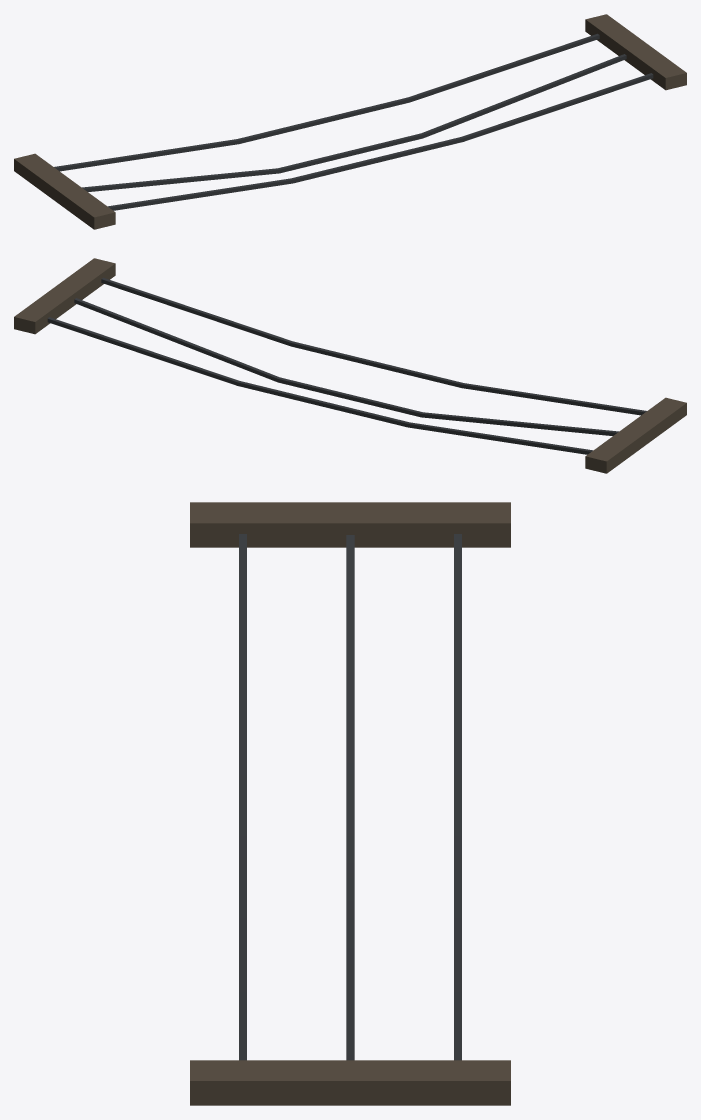
File: SM_Prop_Power_Cables_02.fbx
3 views of the same model, one above another, from view 1: azimuth 30°, elevation 25°; view 2: azimuth 150°, elevation 25°; view 3: azimuth 270°, elevation 25° (orthographic). The views are drawn at different scales.
Parts seen in each view (by area): view 1: SM_Prop_Power_Cables_02; view 2: SM_Prop_Power_Cables_02; view 3: SM_Prop_Power_Cables_02.
Part boxes in pixels (left/top/right/bottom): SM_Prop_Power_Cables_02: left=14, top=14, right=686, bottom=229; SM_Prop_Power_Cables_02: left=14, top=258, right=686, bottom=473; SM_Prop_Power_Cables_02: left=190, top=502, right=510, bottom=1105.
Bounding box in the file's own units: 636 × 40.38 × 149.
